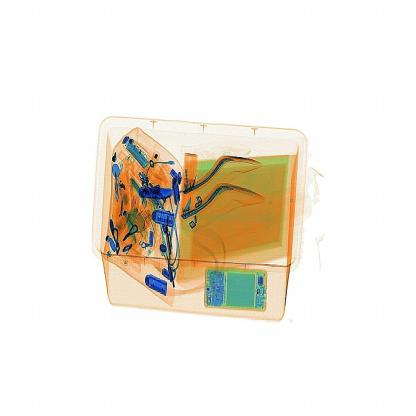knife: (137, 182, 183, 205)
